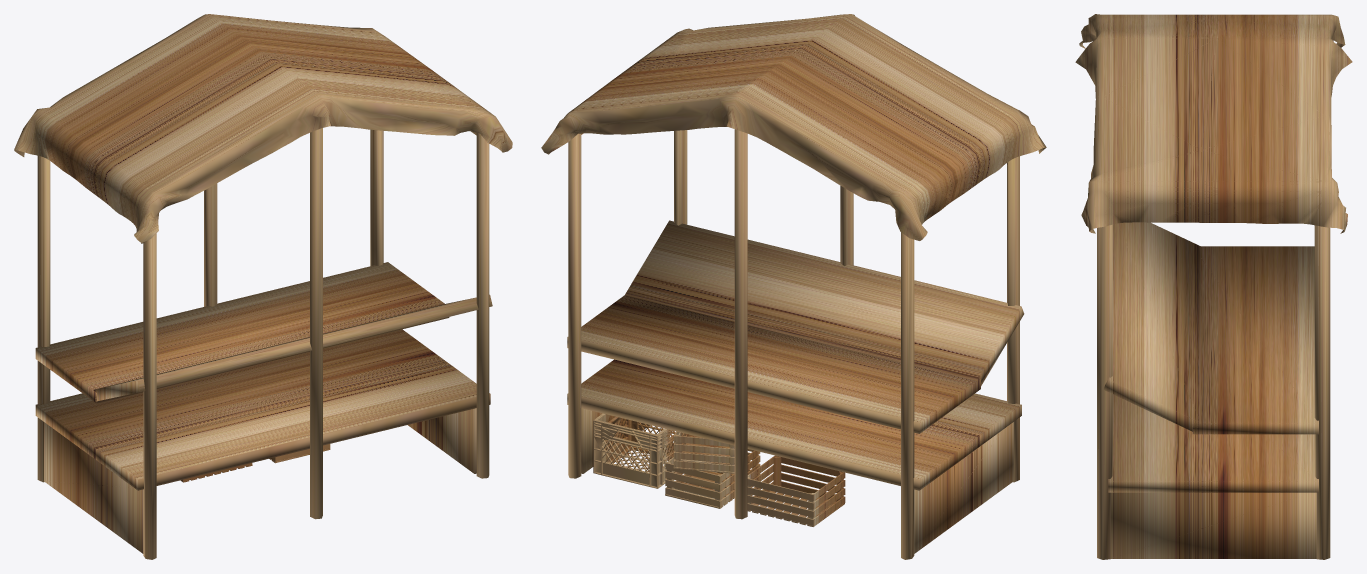
File: capannetta-sola.fbx
3 views of the same model, side by side, from view 1: azimuth 30°, elevation 25°; view 2: azimuth 150°, elevation 25°; view 3: azimuth 270°, elevation 25° (orthographic). The views are drawn at different scales.
Parts seen in each view (by area): view 1: CAPANNETTA; view 2: CAPANNETTA; view 3: CAPANNETTA.
Part boxes in pixels (x1=…): CAPANNETTA: x1=14, y1=14, x2=512, y2=559; CAPANNETTA: x1=541, y1=14, x2=1046, y2=559; CAPANNETTA: x1=1075, y1=14, x2=1352, y2=559.
Size of the model in its own units: 282 by 300 by 173.
